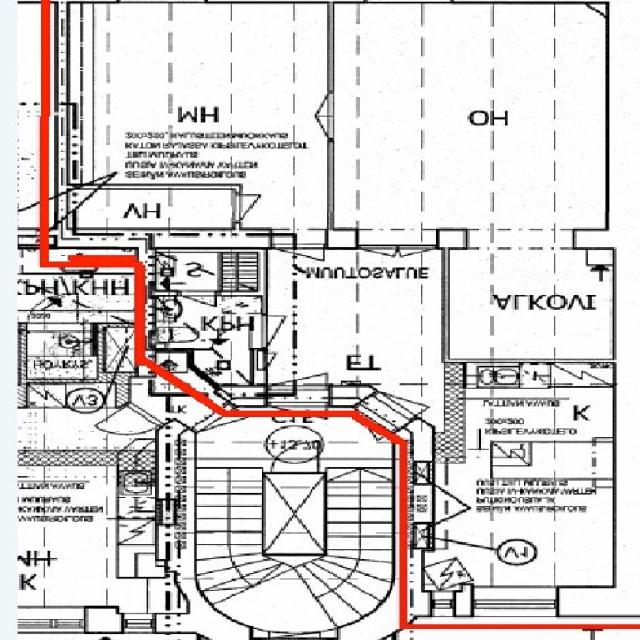door: (355, 366, 460, 434), (314, 391, 419, 459), (269, 346, 330, 407), (269, 385, 330, 446), (271, 244, 325, 283), (262, 316, 314, 346), (235, 194, 281, 221), (358, 244, 398, 274), (398, 244, 436, 274), (293, 93, 334, 116), (182, 291, 216, 318), (293, 116, 334, 138)
